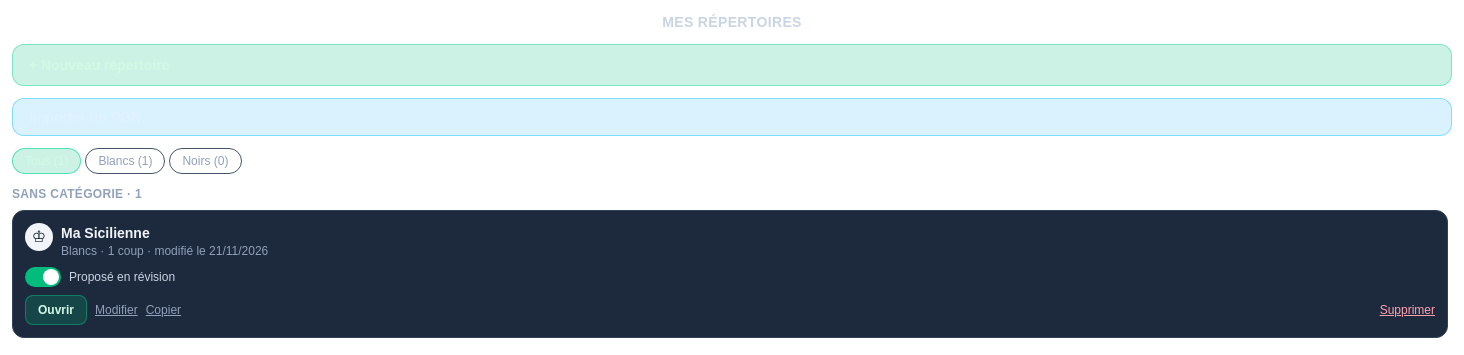
it: interrupteur « en révision » d'un répertoire › est activé par défaut et se désactive puis se réactive
This screenshot has width=1464, height=355.
Later steps or results of the test are not shown.
Check: the text "Proposé en révision" is shown, box [69,269,175,285]
Click the switch named "Ma Sicilienne" at (43, 277), box [25,267,61,287]
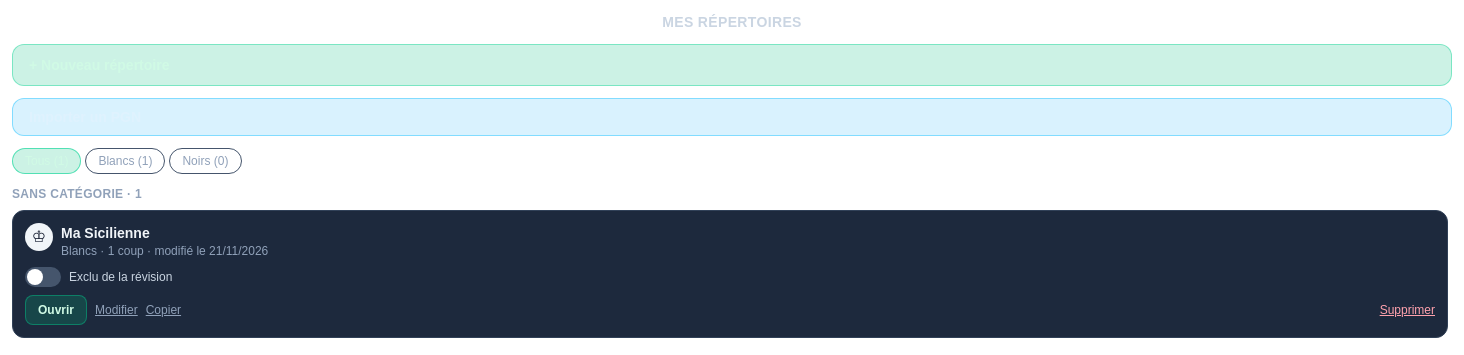
Check: the text "Exclu de la révision" is shown, box [69,269,172,285]
